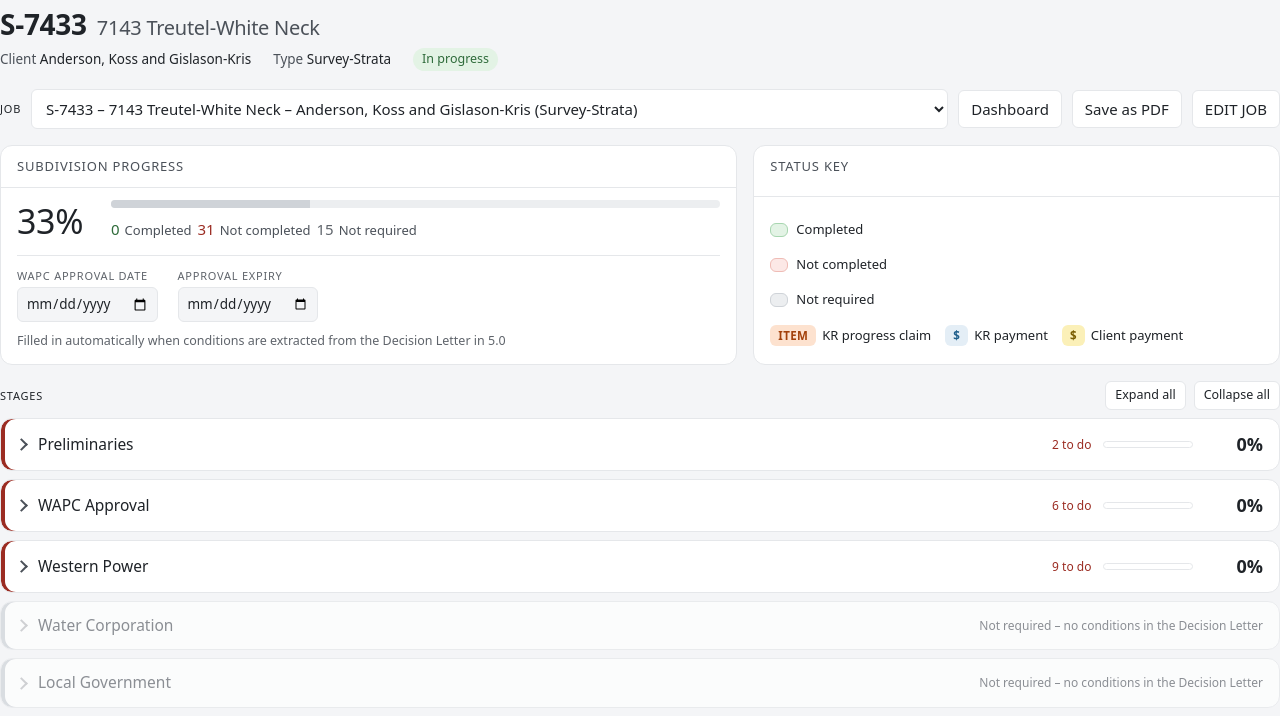
Scenario: the conditions inside the tracker › 'Go to Western Power ↓' opens that stage and scrolls to it, and 'Checklist ↑' goes back
The width and height of the screenshot is (1280, 716).
Expected: the dropdown labelled "Job" is shown, 31,89 -> 948,129
Click the button "Expand all" at point(1145, 396), box 1105,381 -> 1186,410
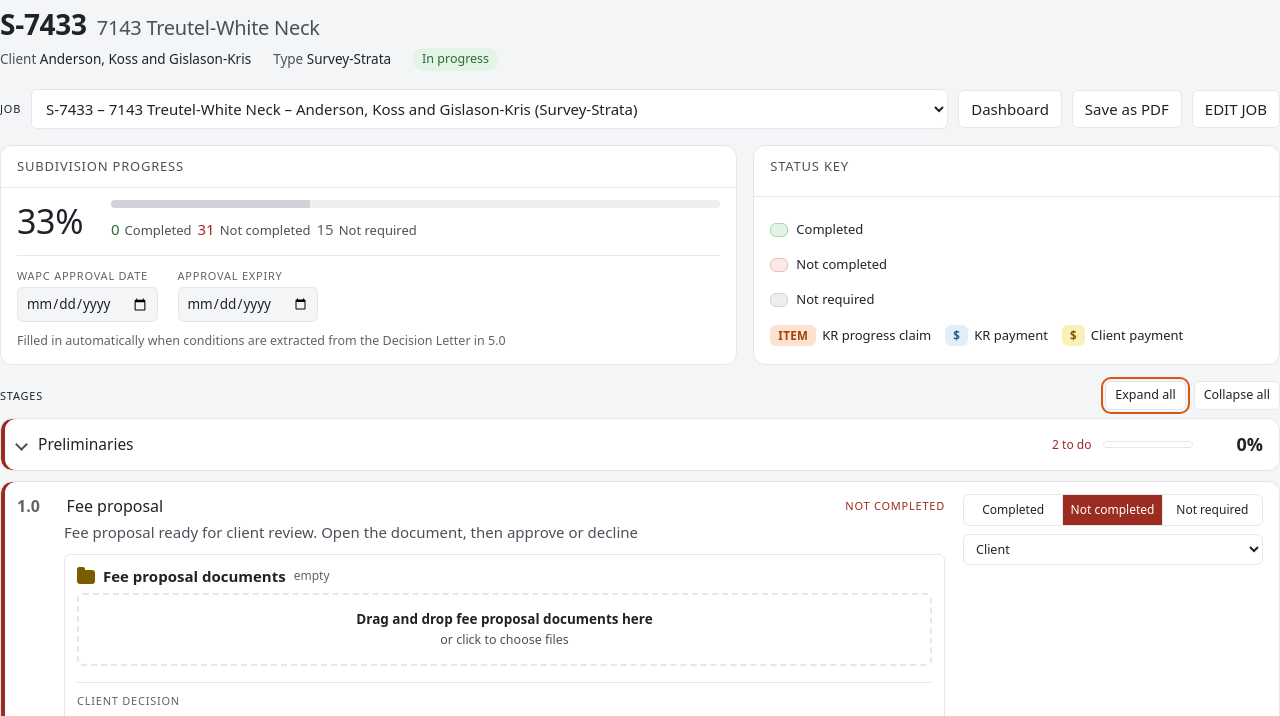
Click the button "Collapse all" at point(1237, 396), box 1194,381 -> 1279,410
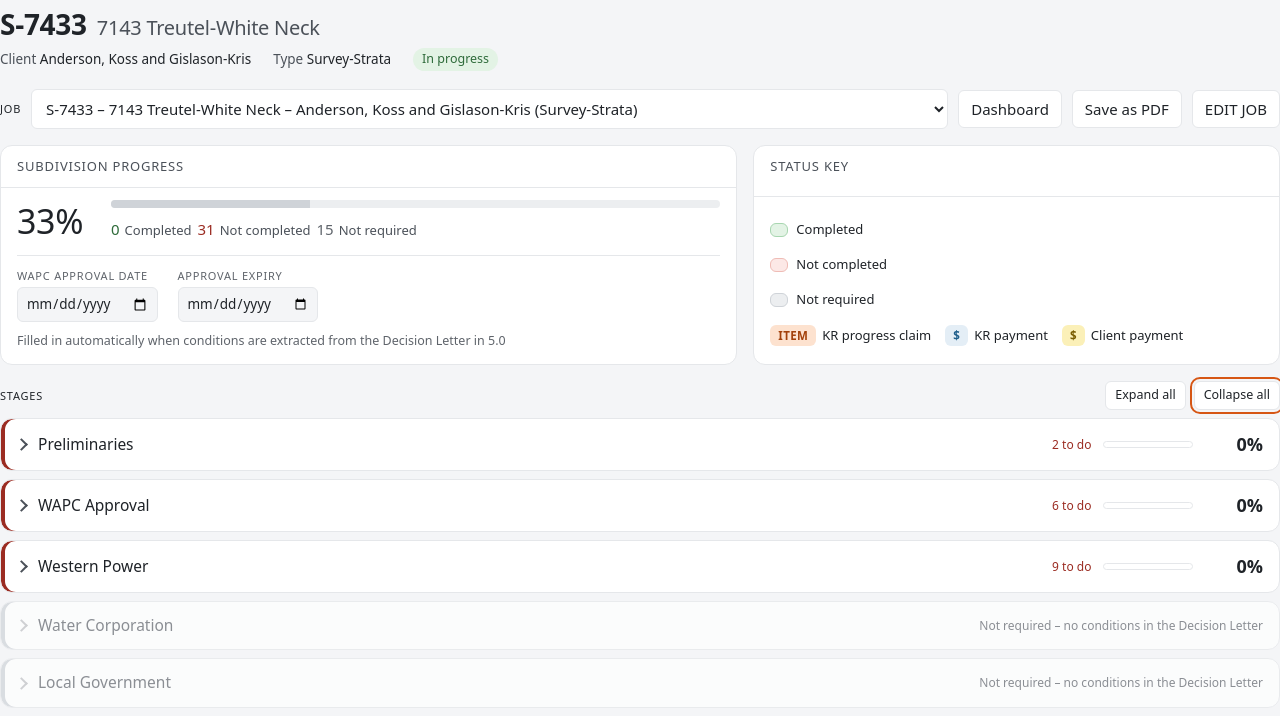
Click the button "WAPC Approval 6 to do 0%" at point(94, 505), box 0,479 -> 1279,532
(page scrolled)
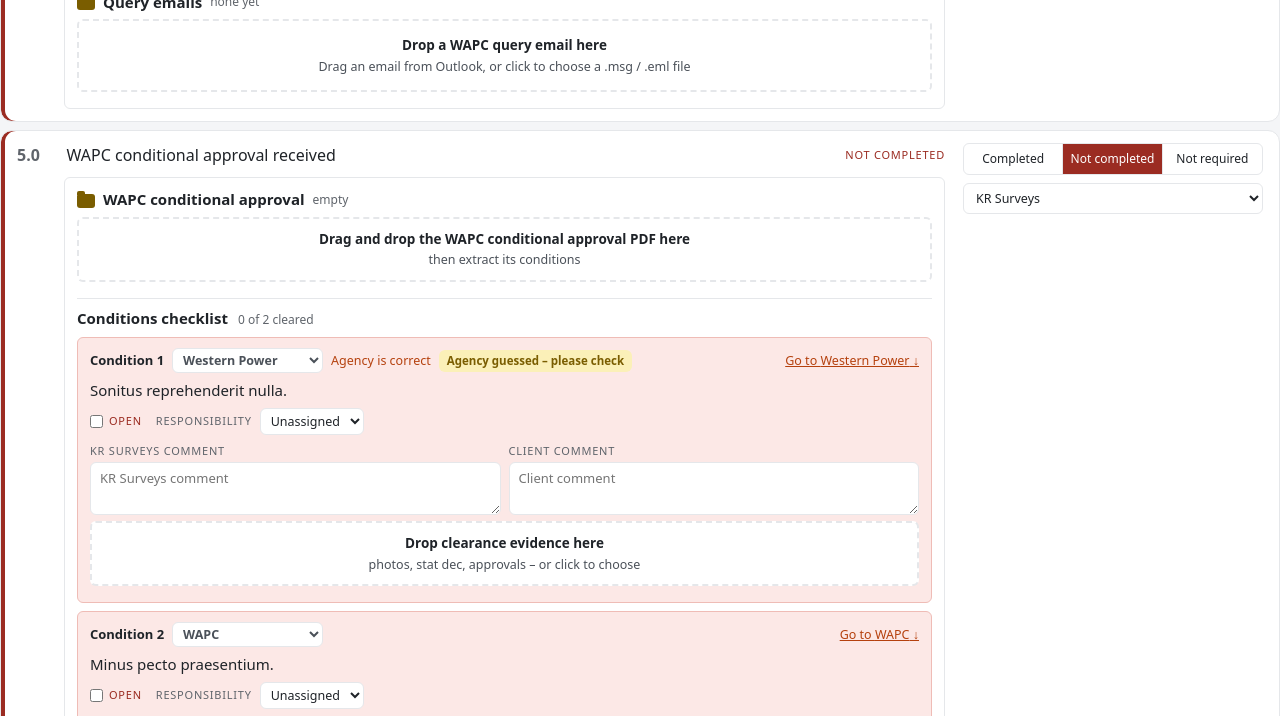
Click the link "Go to Western Power ↓" at point(852, 361), box 785,352 -> 919,370
(page scrolled)
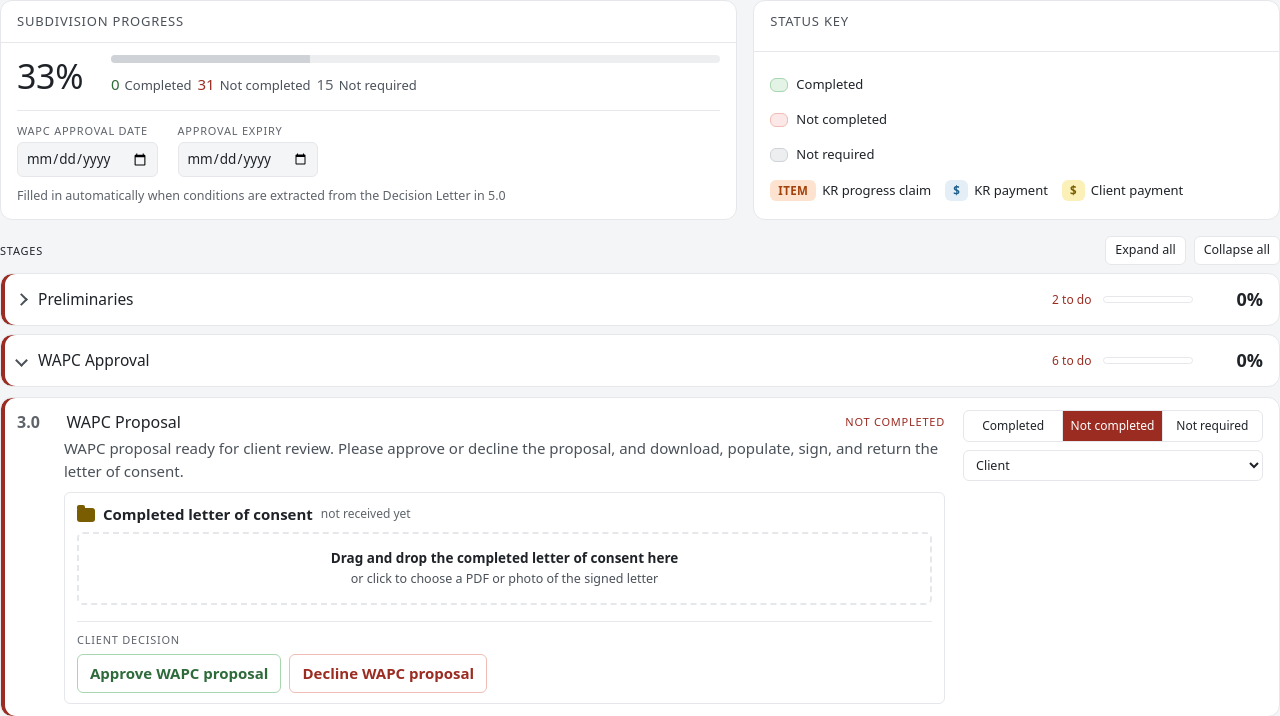
Click the button "WAPC Approval 6 to do 0%" at point(94, 360), box 0,334 -> 1279,387
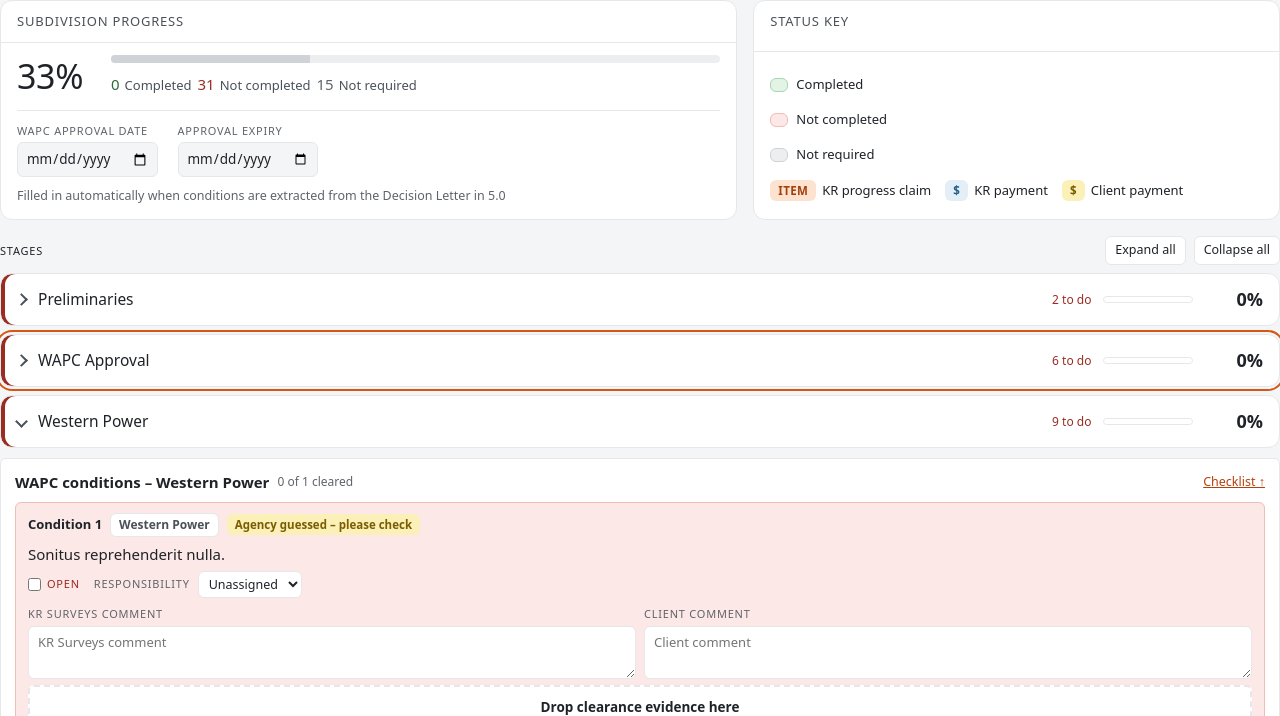
Click the link "Checklist ↑" at point(1234, 482), box 1203,473 -> 1265,492
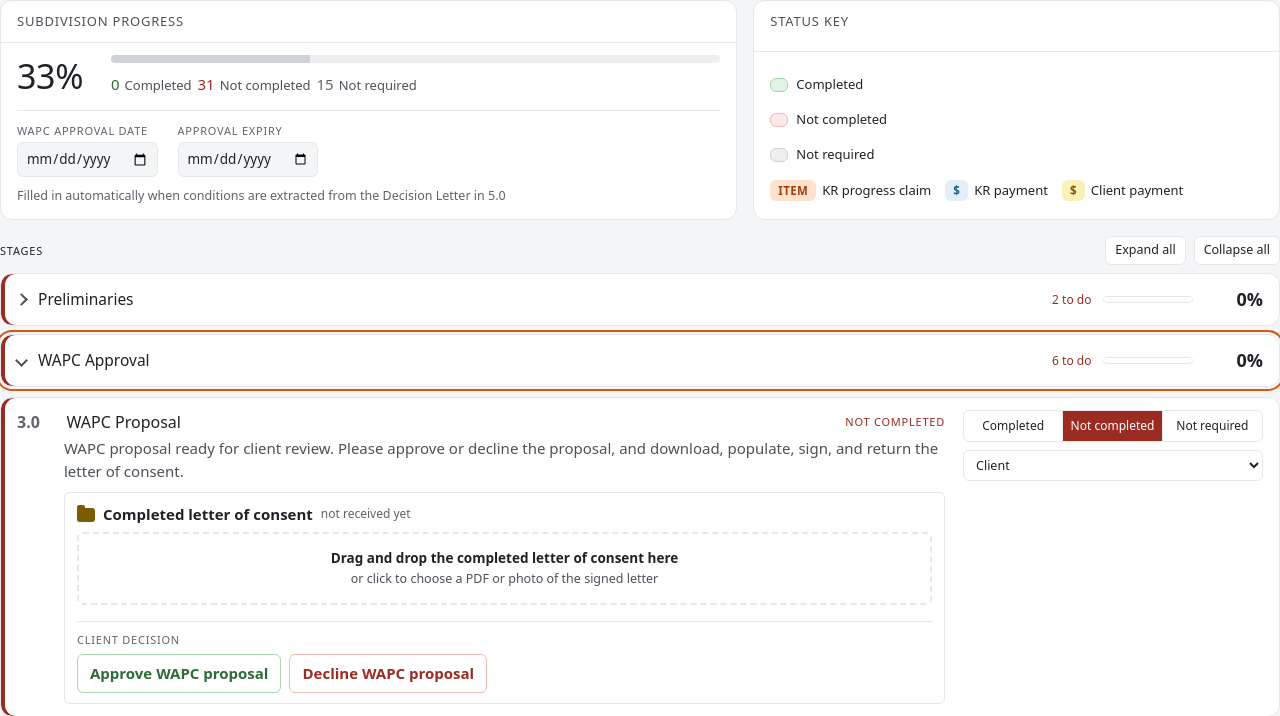
Result: the button "WAPC Approval 6 to do 0%" is expanded at 0,334 -> 1279,387
